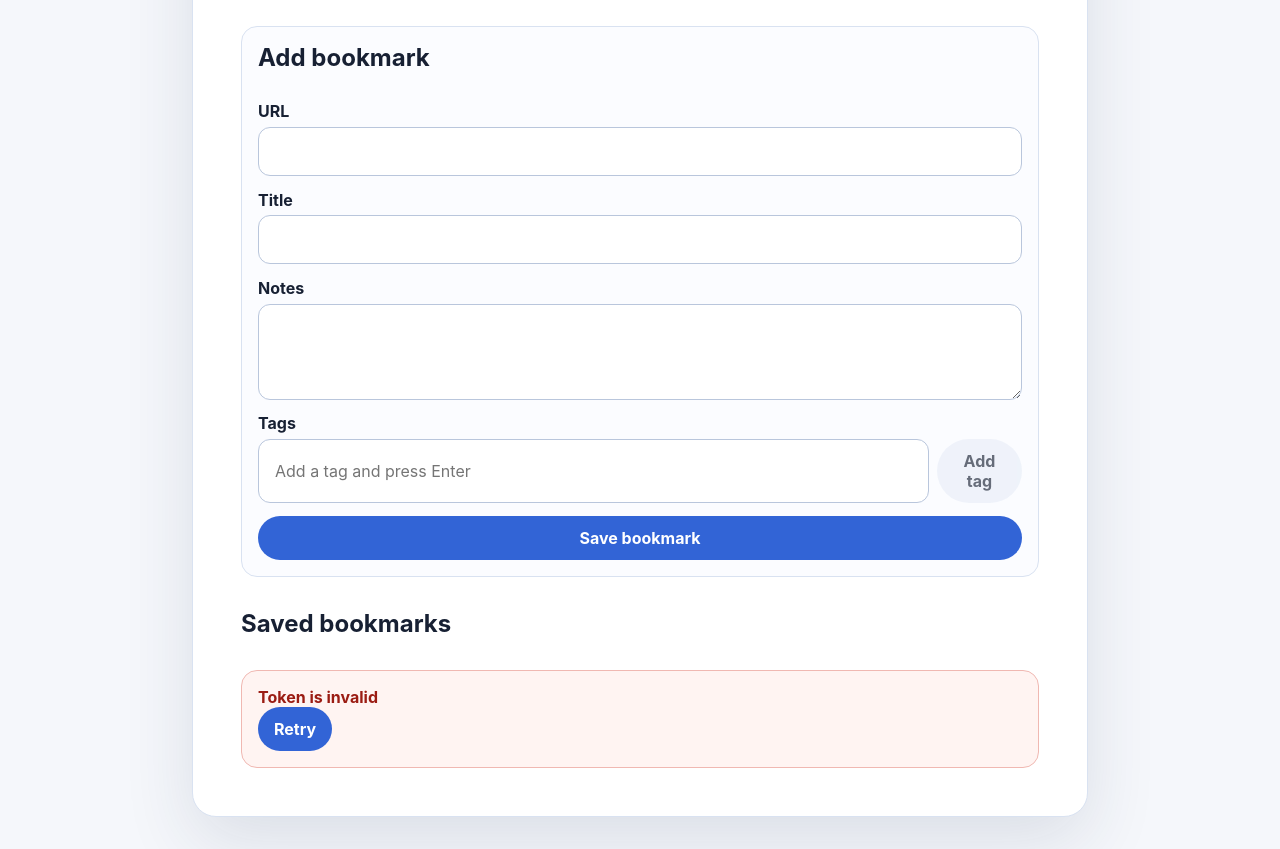
Scenario: client authenticated state › displays readable inline API errors and retries the bookmark load
The image size is (1280, 849).
(page scrolled)
Expected: the message reads "Token is invalid", [258,687,378,707]
Step 1. Click the button "Retry" → (295, 729), box [258,707,332,751]
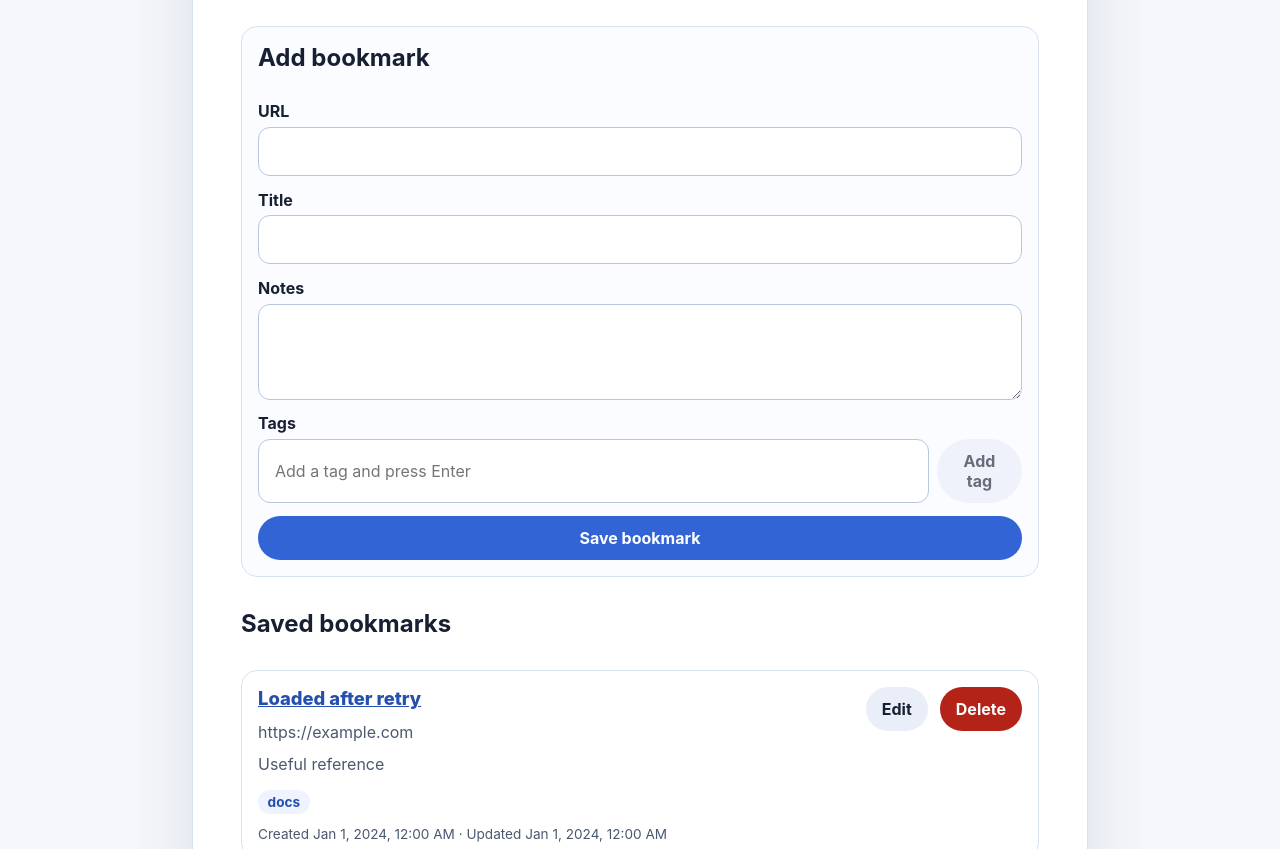
Expected: the link "Loaded after retry" is shown, [258,687,421,709]
